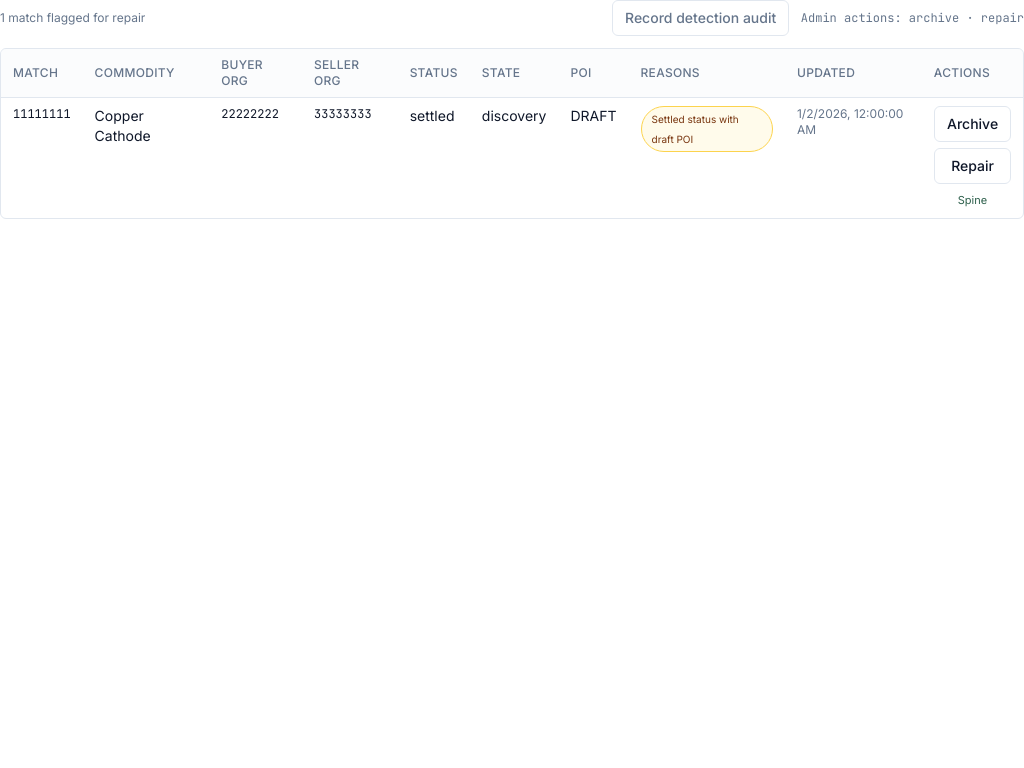
it: AdminLegacyRepairPanel — Step 5 admin actions › opens archive dialog and disables submit until notes are valid
Expected: the text "Copper Cathode" is shown, [83, 98, 209, 218]
Click the button "Archive" at {"x": 972, "y": 124}, box [934, 106, 1011, 142]
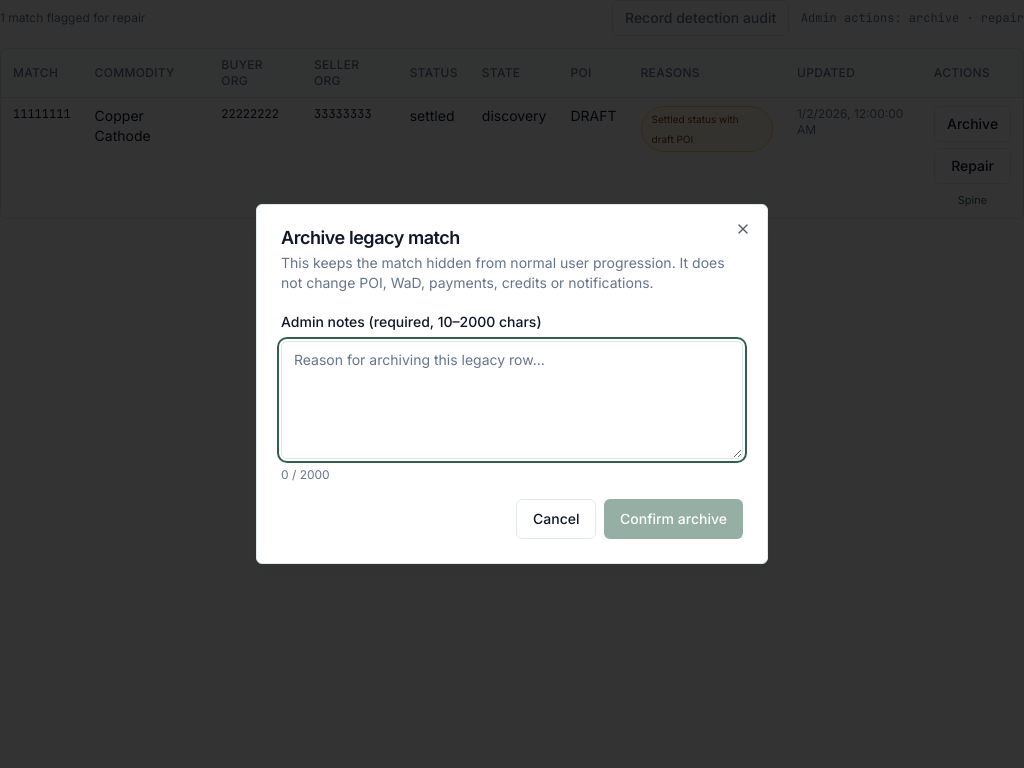
Now the heading "Archive legacy match" is shown, box [281, 227, 460, 248]
Now the button "Confirm archive" is disabled, box [604, 499, 743, 539]
Type "too short" into the text box labelled "Admin notes (required, 10–2000 chars)" at {"x": 512, "y": 400}, box [281, 341, 743, 459]
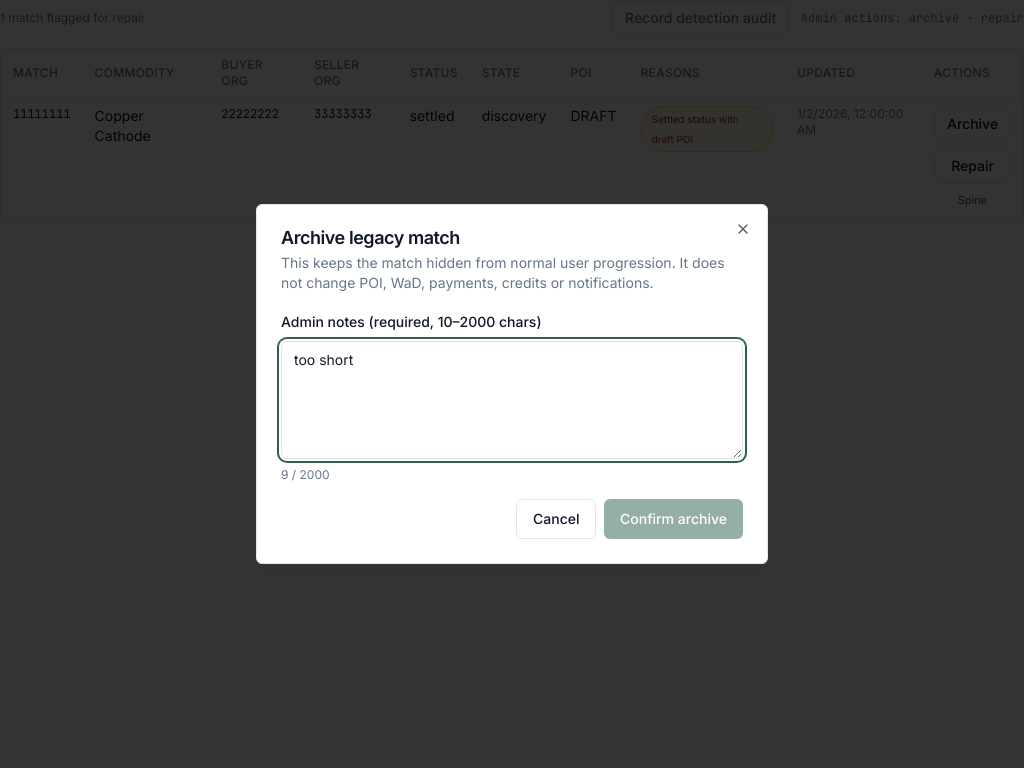
Now the button "Confirm archive" is disabled, box [604, 499, 743, 539]
Replace the text in the text box labelled "Admin notes (required, 10–2000 chars)" with "Legacy row archived following business decision XYZ-123." at {"x": 512, "y": 400}, box [281, 341, 743, 459]
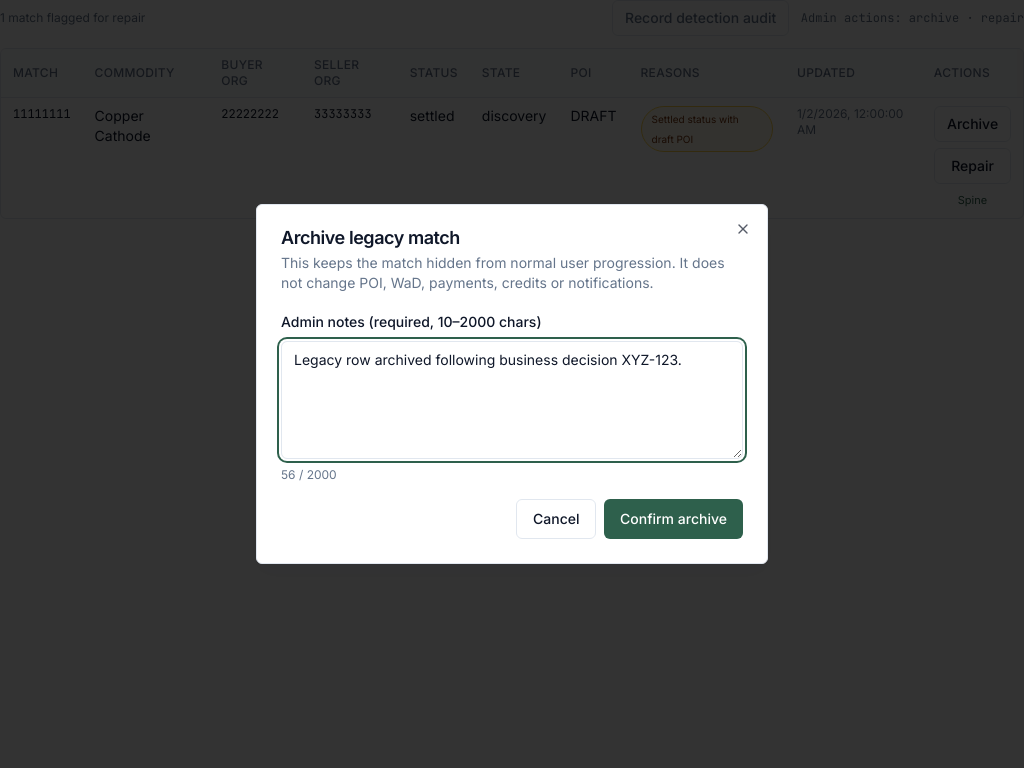
Now the button "Confirm archive" is enabled, box [604, 499, 743, 539]
